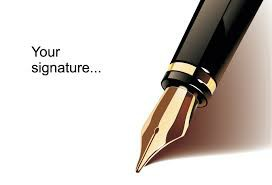pen: (136, 1, 259, 176)
